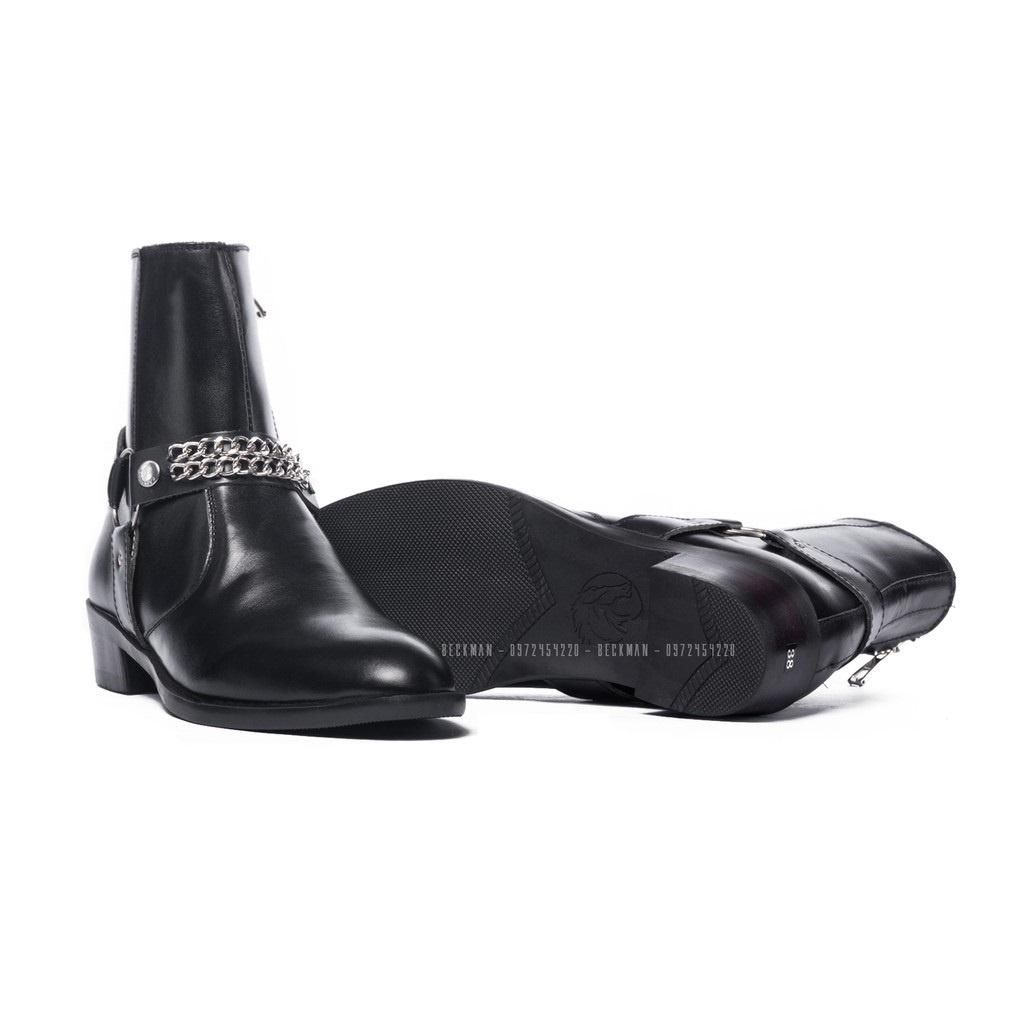boots: (82, 241, 472, 730), (317, 478, 963, 725)
